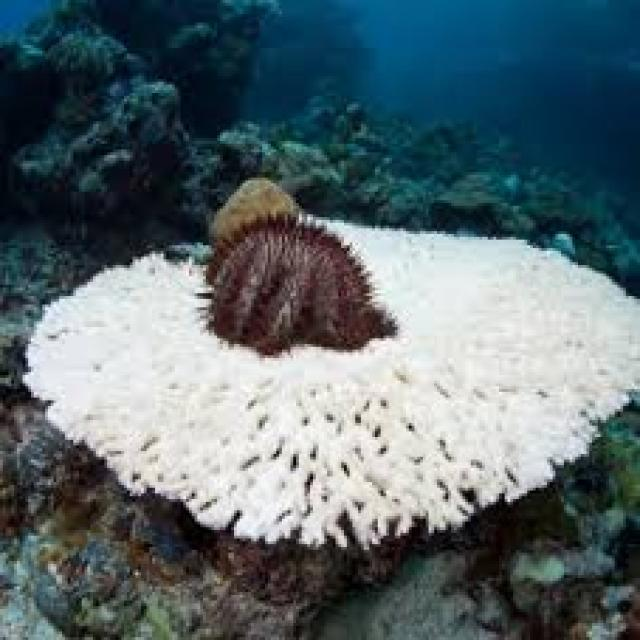Bleached: (26, 218, 638, 548)
